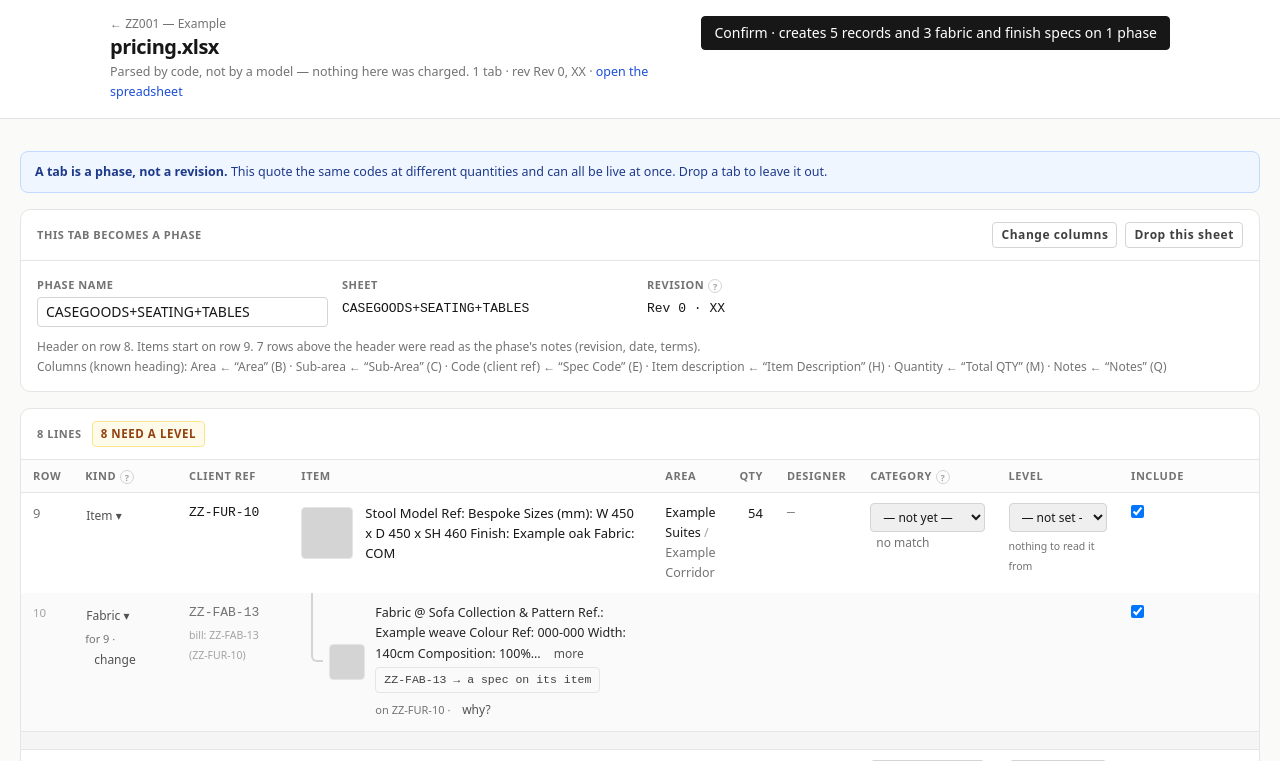
Test: the bill review's groups › cuts a long fabric description to about two lines, with more and less beside it
expect the button with aria-label "Row 10 is Fabric — change" is shown: met, box [77,603,138,629]
Click the button "more".
click(569, 654)  # box [545,641,593,667]
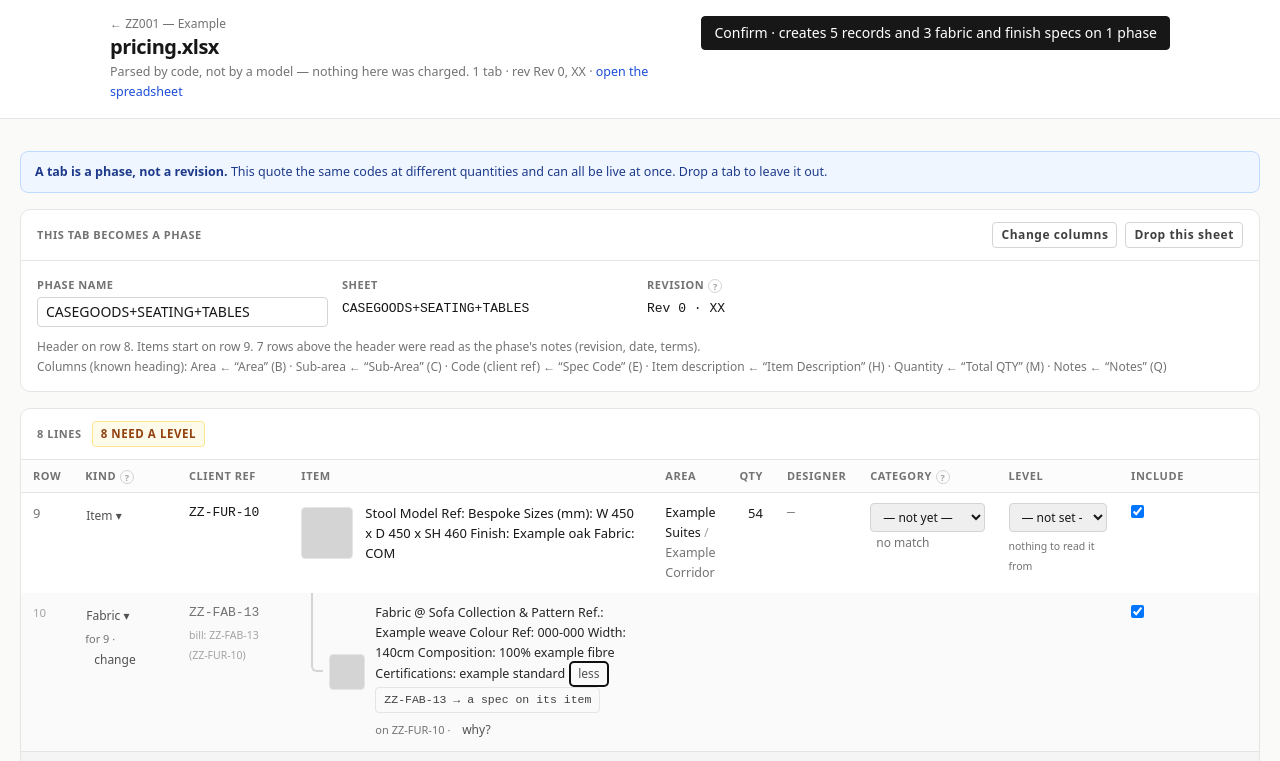
expect the text "Certifications: example standard" is shown: met, box [375,604,626,682]
expect the button "less" is shown: met, box [569,661,609,687]
